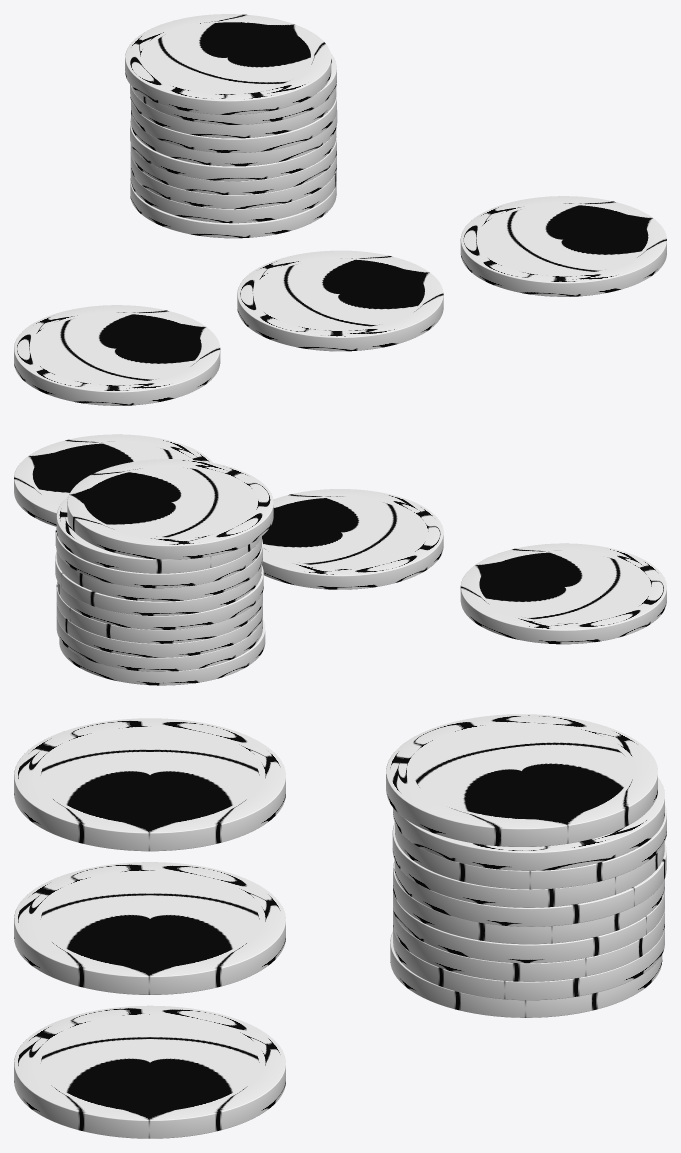
The model's file is uploads_files_983690_PokerChips.fbx.
The picture shows the model from 3 angles, top to bottom: view 1: azimuth 30°, elevation 25°; view 2: azimuth 150°, elevation 25°; view 3: azimuth 270°, elevation 25°; orthographic projection. The views are drawn at different scales.
Visible parts, largest first — view 1: Chip_2, Chip_3, Chip_1, Chip_4, Chip_4_10, Chip_4_6, Chip_4_4, Chip_4_9, Chip_4_8, Chip_4_7, Chip_4_3, Chip_4_5 (+1 smaller); view 2: Chip_1, Chip_4, Chip_2, Chip_3, Chip_4_2, Chip_4_3, Chip_4_5, Chip_4_6, Chip_4_8, Chip_4_9, Chip_4_7, Chip_4_10 (+1 smaller); view 3: Chip_1, Chip_3, Chip_2, Chip_4, Chip_4_2, Chip_4_5, Chip_4_7, Chip_4_3, Chip_4_4, Chip_4_9, Chip_4_8, Chip_4_10 (+1 smaller).
Part boxes in pixels (bbox=[...]): Chip_2: bbox=[237, 250, 443, 351]; Chip_3: bbox=[460, 196, 666, 296]; Chip_1: bbox=[14, 305, 220, 405]; Chip_4: bbox=[125, 14, 331, 114]; Chip_4_10: bbox=[130, 179, 336, 238]; Chip_4_6: bbox=[130, 119, 336, 181]; Chip_4_4: bbox=[131, 91, 336, 153]; Chip_4_9: bbox=[130, 167, 336, 223]; Chip_4_8: bbox=[130, 153, 336, 209]; Chip_4_7: bbox=[130, 134, 336, 194]; Chip_4_3: bbox=[130, 85, 336, 138]; Chip_4_5: bbox=[131, 110, 337, 166]; Chip_1: bbox=[460, 543, 666, 644]; Chip_4: bbox=[67, 459, 273, 559]; Chip_2: bbox=[262, 489, 443, 589]; Chip_3: bbox=[14, 434, 213, 526]; Chip_4_2: bbox=[56, 496, 261, 573]; Chip_4_3: bbox=[55, 526, 261, 588]; Chip_4_5: bbox=[55, 552, 261, 615]; Chip_4_6: bbox=[57, 565, 263, 629]; Chip_4_8: bbox=[56, 601, 262, 657]; Chip_4_9: bbox=[56, 615, 262, 671]; Chip_4_7: bbox=[56, 582, 262, 643]; Chip_4_10: bbox=[59, 619, 265, 685]; Chip_1: bbox=[14, 718, 285, 851]; Chip_3: bbox=[14, 1005, 285, 1138]; Chip_2: bbox=[14, 862, 285, 994]; Chip_4: bbox=[386, 714, 657, 846]; Chip_4_2: bbox=[393, 778, 664, 870]; Chip_4_5: bbox=[394, 842, 666, 926]; Chip_4_7: bbox=[393, 888, 664, 963]; Chip_4_3: bbox=[395, 805, 666, 889]; Chip_4_4: bbox=[392, 822, 664, 907]; Chip_4_9: bbox=[393, 927, 664, 1000]; Chip_4_8: bbox=[393, 908, 664, 981]; Chip_4_10: bbox=[390, 932, 662, 1017].
Bounding box in the file's own units: 14 × 3 × 9.6.
Materials: 1 (1 with a texture image).
